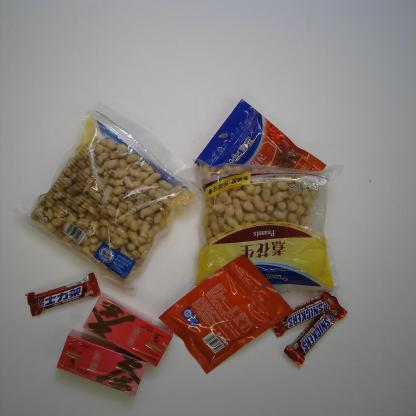Chocolate: (282, 302, 348, 369), (23, 271, 102, 317), (272, 291, 338, 339)
Dried Food: (11, 98, 206, 298), (189, 157, 346, 300)
Dried Fruit: (156, 253, 295, 377), (193, 98, 327, 178)
Instant Drink: (82, 291, 174, 369), (55, 328, 147, 396)
